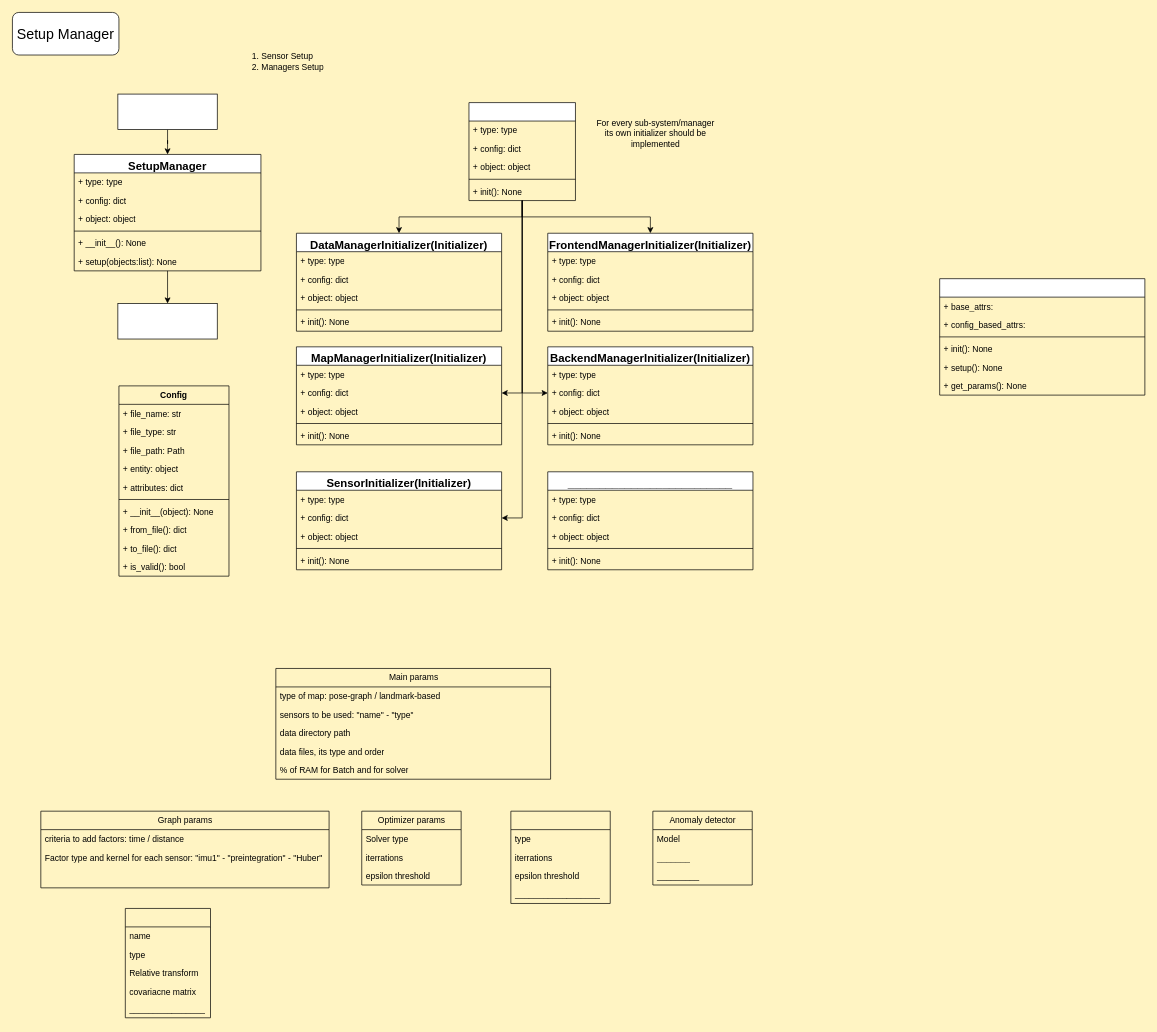
Image size: 1157x1032. Some labels were removed from this diagram. Each missing label, with the box of its shape:
Fail/Succes output: (117, 303, 217, 339)
Initializer(ABC): (468, 102, 575, 201)
List of objects for initialization: (117, 93, 217, 130)
Loop closing params: (510, 810, 610, 903)
Sensor params: (125, 908, 211, 1018)
SomeObject(): (939, 278, 1145, 395)
